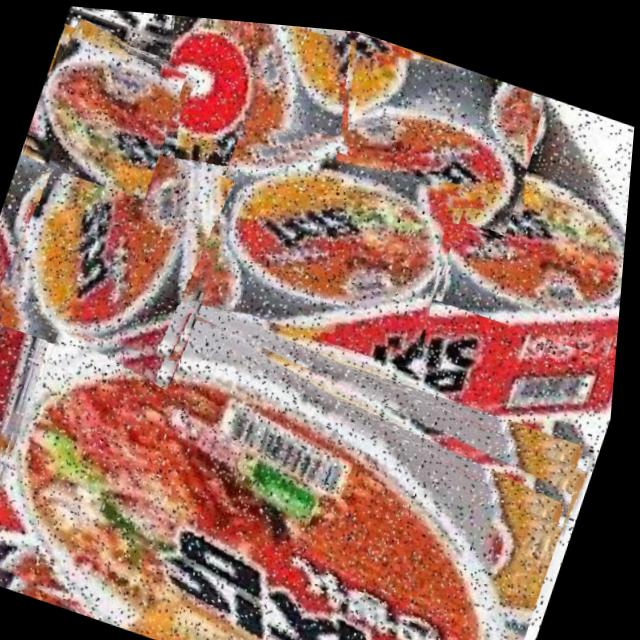Miscellaneous: (0, 246, 607, 640), (186, 110, 474, 363), (0, 113, 250, 375), (115, 9, 374, 242), (291, 21, 555, 233), (416, 121, 634, 348), (20, 14, 194, 200)
